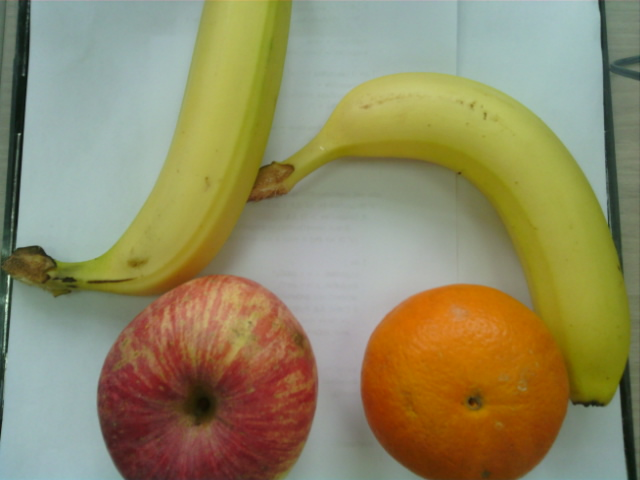normal_apple: (97, 275, 316, 480)
normal_banana: (282, 70, 631, 405), (25, 1, 291, 294)
normal_orange: (361, 279, 573, 480)
